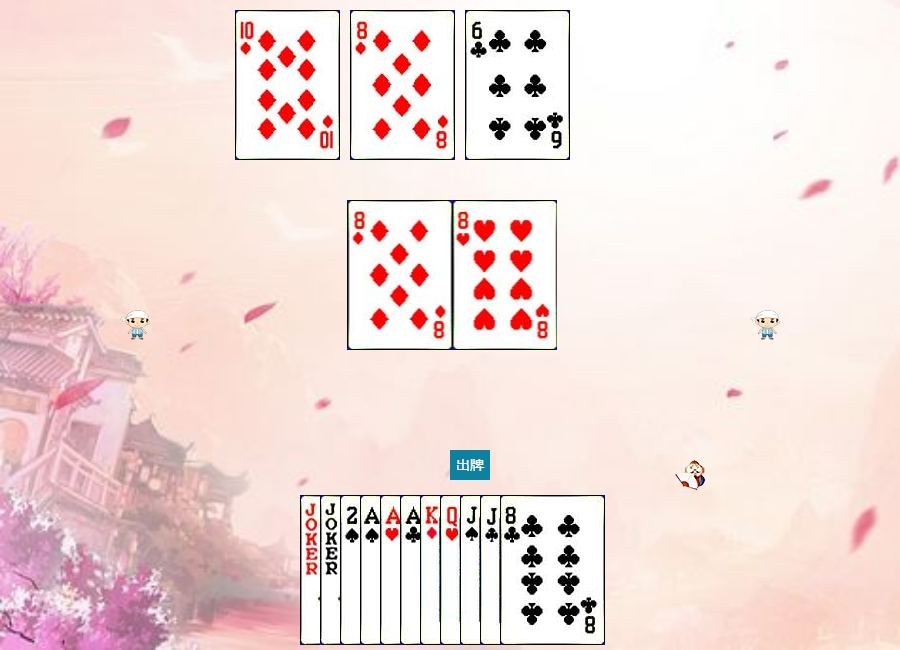10~1: (235, 10, 340, 160)
11~2: (480, 495, 585, 645)
11~4: (460, 495, 565, 645)
12~3: (440, 495, 545, 645)
13~1: (420, 495, 525, 645)
14~2: (400, 495, 505, 645)
14~3: (380, 495, 485, 645)
14~4: (360, 495, 465, 645)
15~4: (340, 495, 445, 645)
17~3: (320, 495, 425, 645)
18~4: (300, 495, 405, 645)
6~2: (465, 10, 570, 160)
8~1: (350, 10, 455, 160), (348, 200, 453, 350)
8~2: (500, 495, 605, 645)
8~3: (453, 200, 558, 350)
